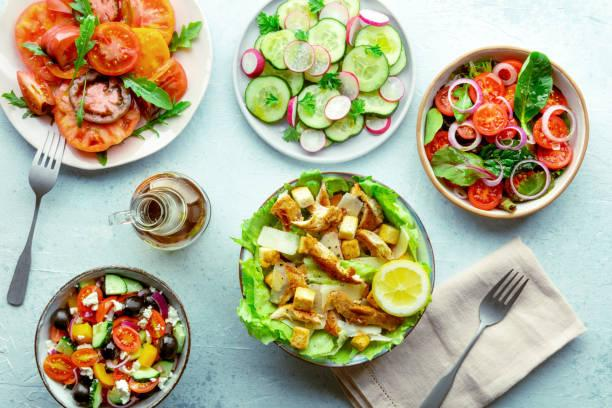Braised Crucian Carp: (238, 173, 431, 365), (3, 0, 212, 172), (231, 0, 414, 165), (416, 45, 588, 220), (33, 267, 188, 405)
